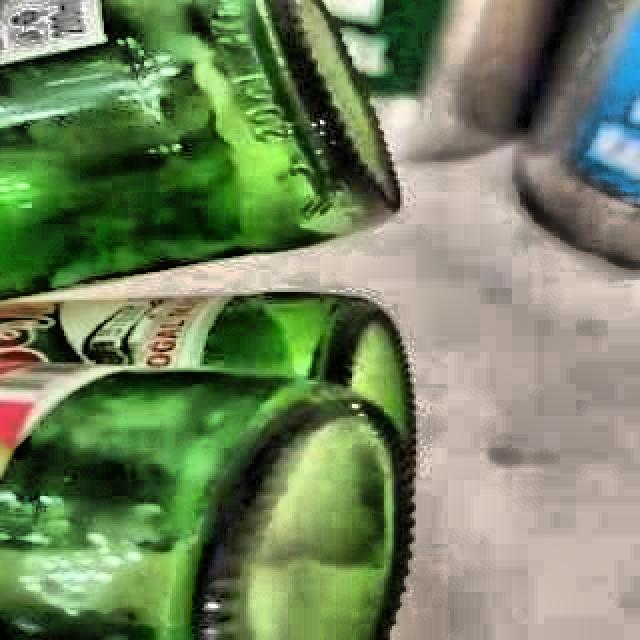glass: (0, 293, 416, 640)
